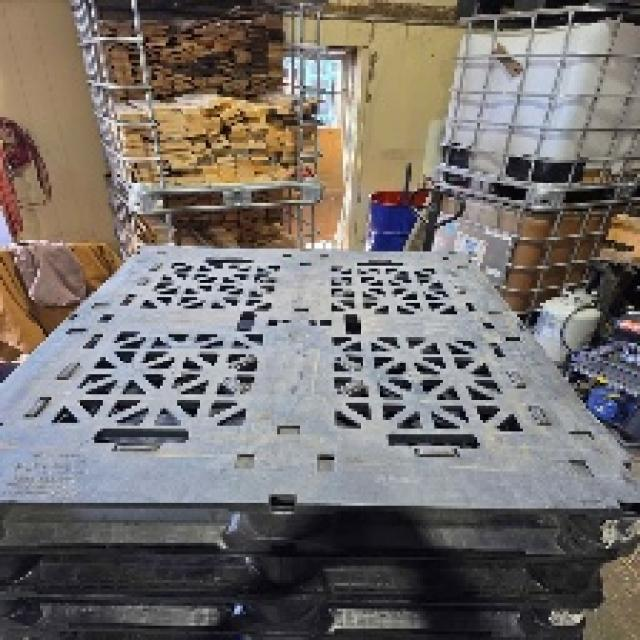igps: (0, 234, 640, 573), (0, 551, 612, 620), (0, 599, 612, 640)
